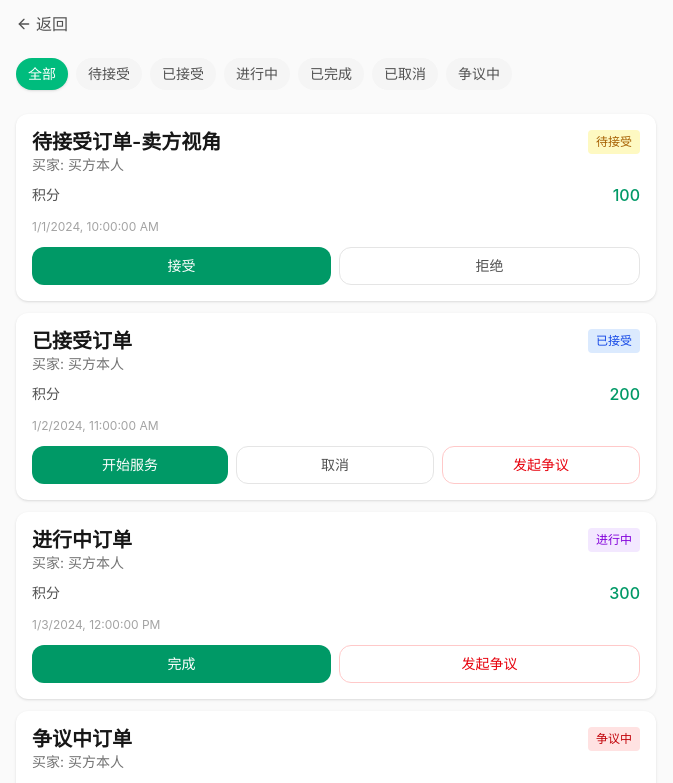
Test: SkillExchange 订单列表与状态操作 › 切换状态筛选重新过滤列表显示对应订单
The image size is (673, 783).
Check: the heading "待接受订单-卖方视角" is shown, box [32,130,221,154]
Note: 点击"已完成"筛选按钮
Click the button "已完成": x=331, y=74 [298,58,364,90]
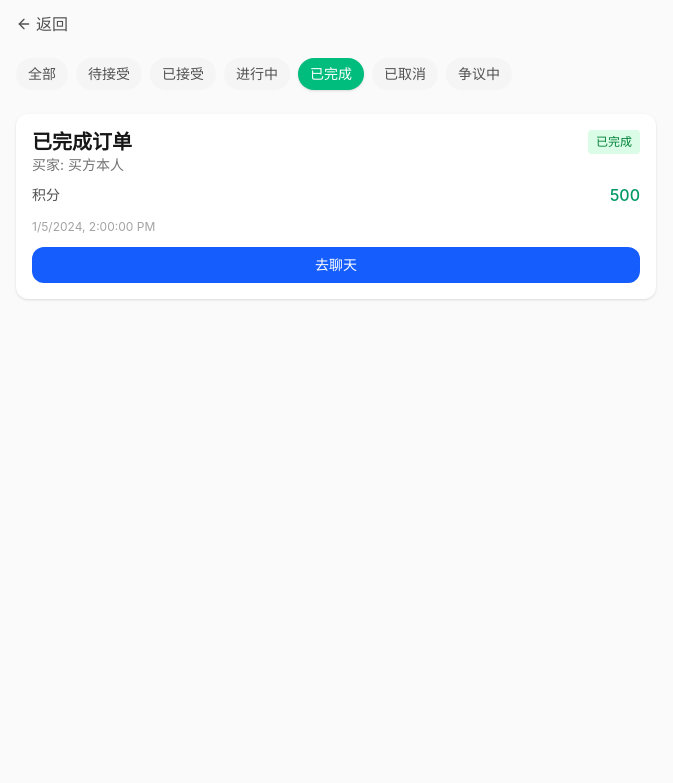
Check: the heading "已完成订单" is shown, box [32,130,132,154]
Check: the heading "待接受订单-卖方视角" is gone
